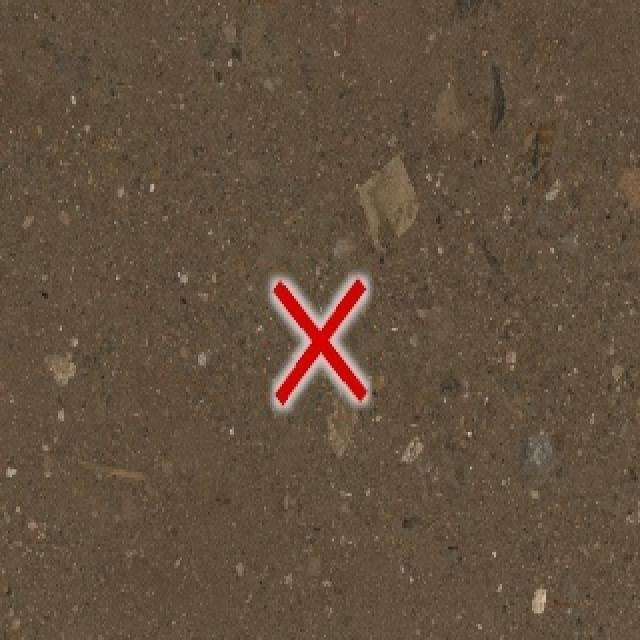x_marker: (273, 279, 365, 404)
